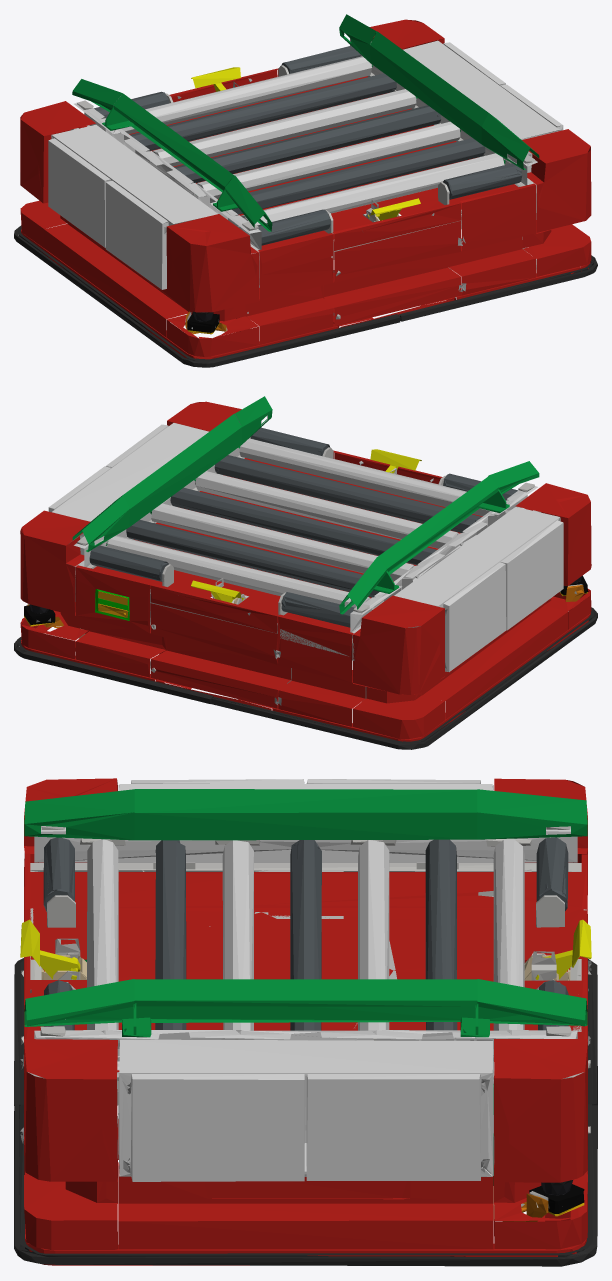
3 views of the same model, one above another, from view 1: azimuth 30°, elevation 25°; view 2: azimuth 150°, elevation 25°; view 3: azimuth 270°, elevation 25° (orthographic). The views are drawn at different scales.
Visible parts, largest first — view 1: body_mesh, guard_mesh; view 2: body_mesh, guard_mesh; view 3: body_mesh, guard_mesh.
Boxes of the visible parts, x1,y1,x2,y2 form: body_mesh: (14, 19, 597, 367); guard_mesh: (72, 14, 539, 231); body_mesh: (14, 401, 597, 749); guard_mesh: (72, 396, 539, 614); body_mesh: (14, 778, 597, 1266); guard_mesh: (20, 789, 591, 1037).
Bounding box in the file's own units: 1.75 × 0.632 × 1.4.
